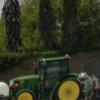Tractor: (7, 40, 87, 100)
